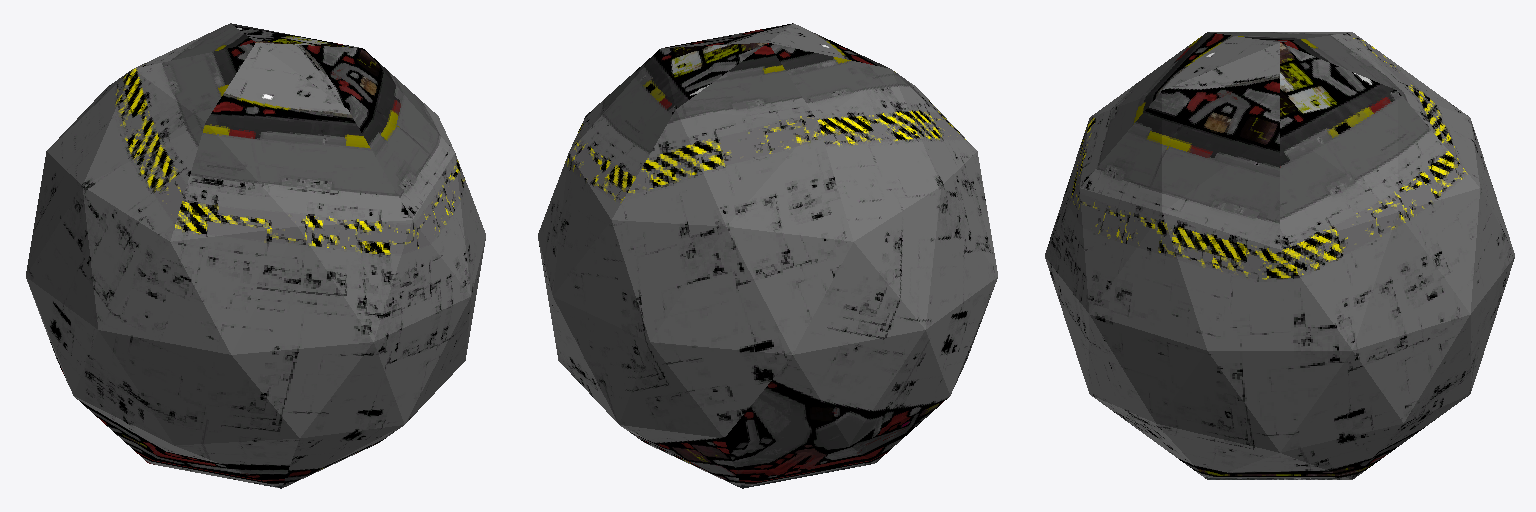
3 views of the same model, side by side, from view 1: azimuth 30°, elevation 25°; view 2: azimuth 150°, elevation 25°; view 3: azimuth 270°, elevation 25° (orthographic).
Parts seen in each view (by area): view 1: Icosphere; view 2: Icosphere; view 3: Icosphere.
Part boxes in pixels (left/top/right/bottom): Icosphere: left=26, top=23, right=485, bottom=488; Icosphere: left=538, top=23, right=997, bottom=488; Icosphere: left=1045, top=32, right=1514, bottom=479.
Size of the model in its own units: 0 by 0 by 0.
Materials: 1 (1 with a texture image).